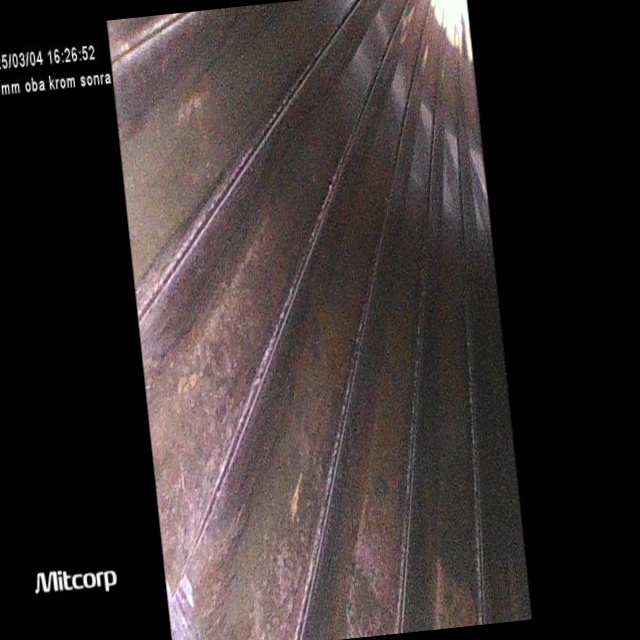hata_8.3: (138, 173, 317, 604), (187, 387, 333, 639), (293, 446, 401, 640), (178, 55, 242, 138), (399, 571, 453, 640)
